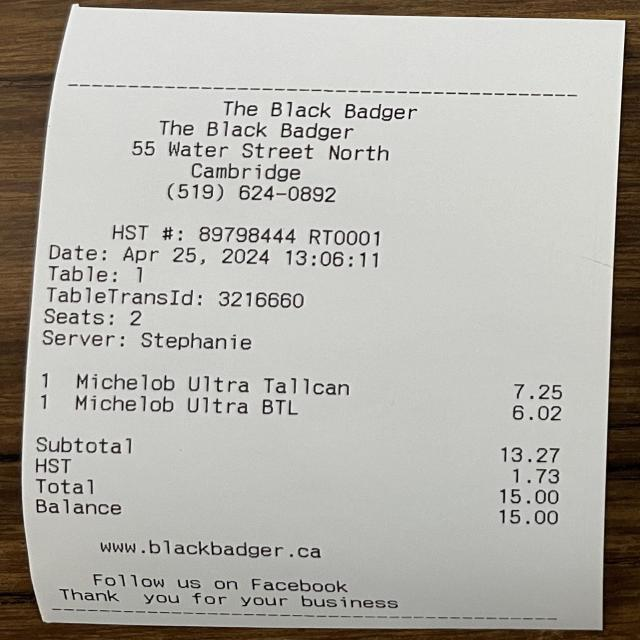item: (59, 368, 575, 404), (60, 394, 574, 426)
store_name: (208, 90, 430, 126)
total_amount: (31, 475, 571, 507)
transaction_date: (114, 241, 283, 271)
